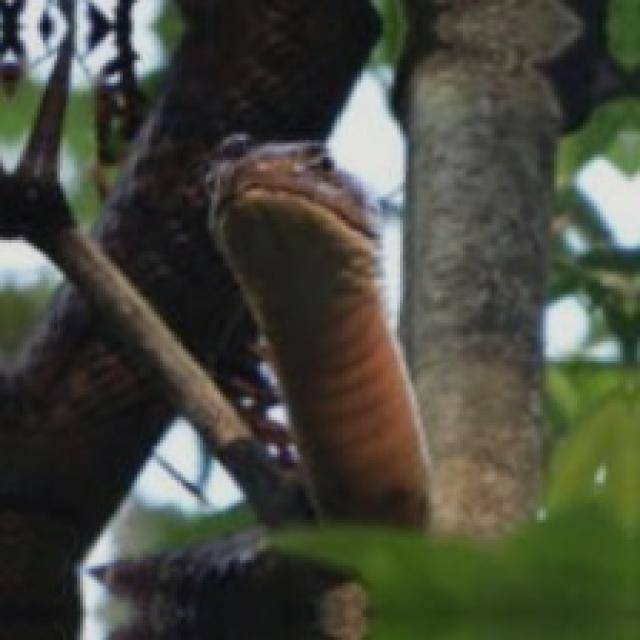king cobra: (94, 0, 374, 391), (211, 143, 423, 523), (0, 286, 171, 637), (103, 531, 363, 637)
